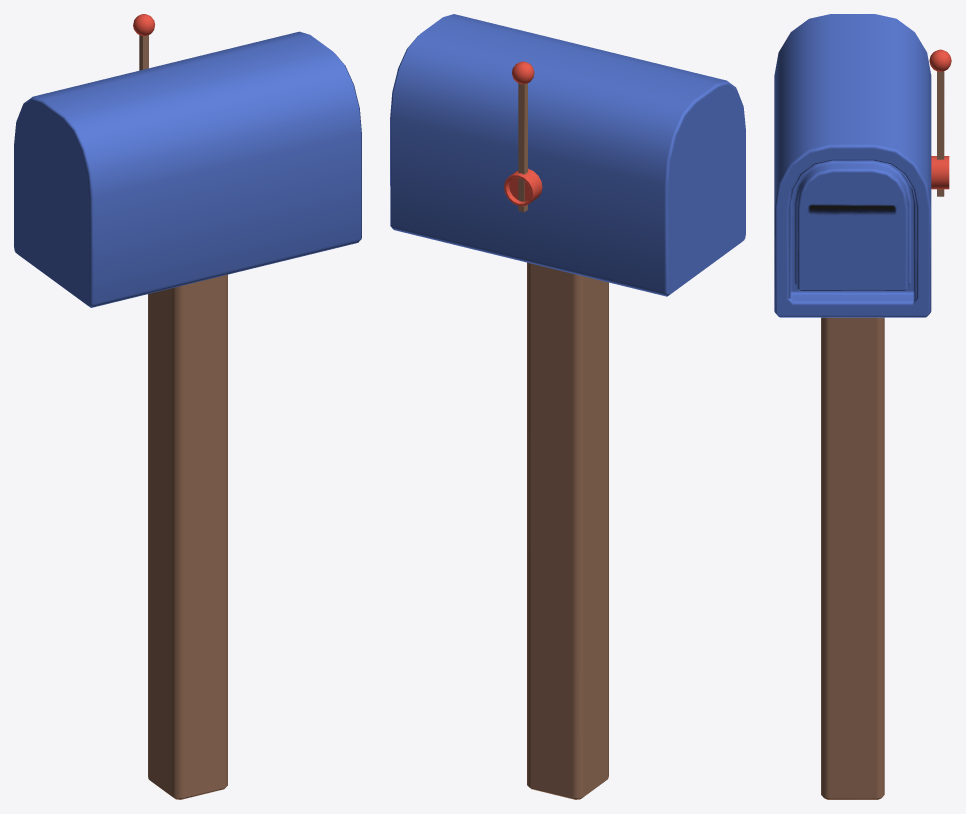
File: Mailbox.fbx
3 views of the same model, side by side, from view 1: azimuth 30°, elevation 25°; view 2: azimuth 150°, elevation 25°; view 3: azimuth 270°, elevation 25° (orthographic). The views are drawn at different scales.
Visible parts, largest first — view 1: Mailbox_Main, Mailbox_Flag; view 2: Mailbox_Main, Mailbox_Flag; view 3: Mailbox_Main, Mailbox_Flag.
Part boxes in pixels (x1,y1,x2,y2): Mailbox_Main: (14, 31, 361, 799); Mailbox_Flag: (133, 14, 154, 70); Mailbox_Main: (390, 14, 745, 799); Mailbox_Flag: (504, 61, 542, 212); Mailbox_Main: (774, 14, 931, 799); Mailbox_Flag: (929, 49, 951, 196).
Bounding box in the file's own units: 49.8 × 129 × 28.08.
